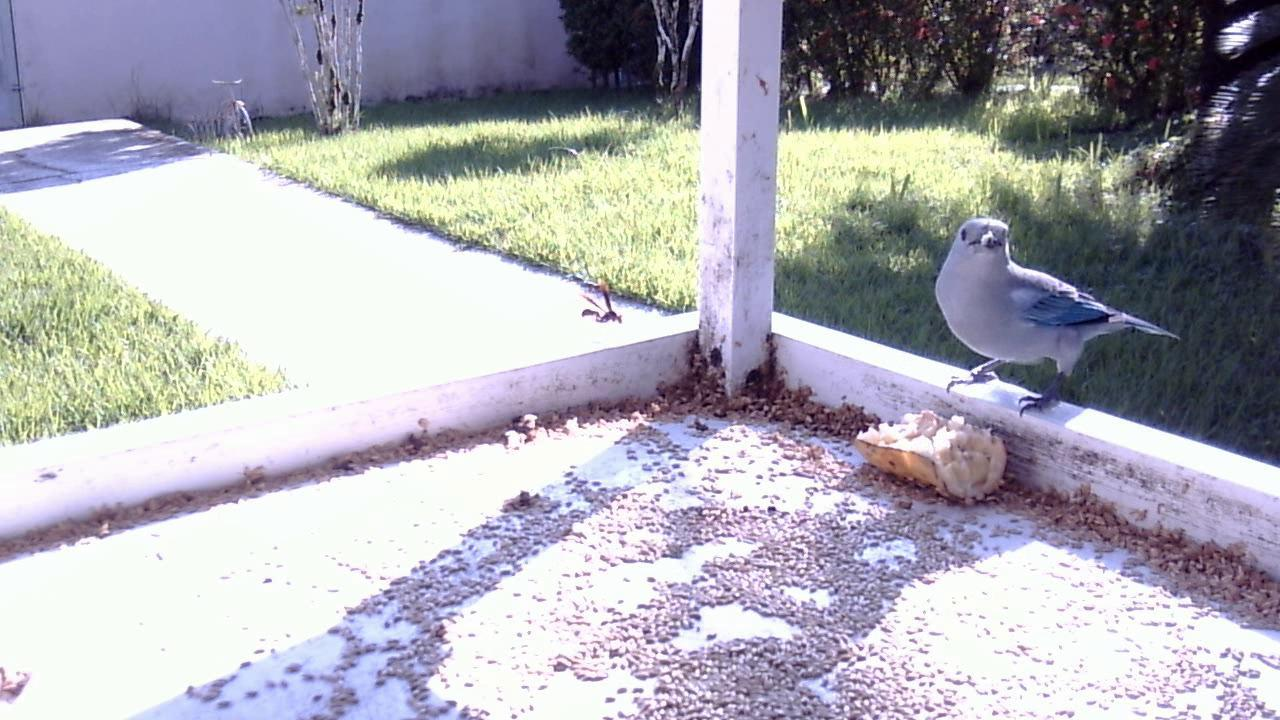sanhaco_da_amazonia: (925, 211, 1180, 430)
